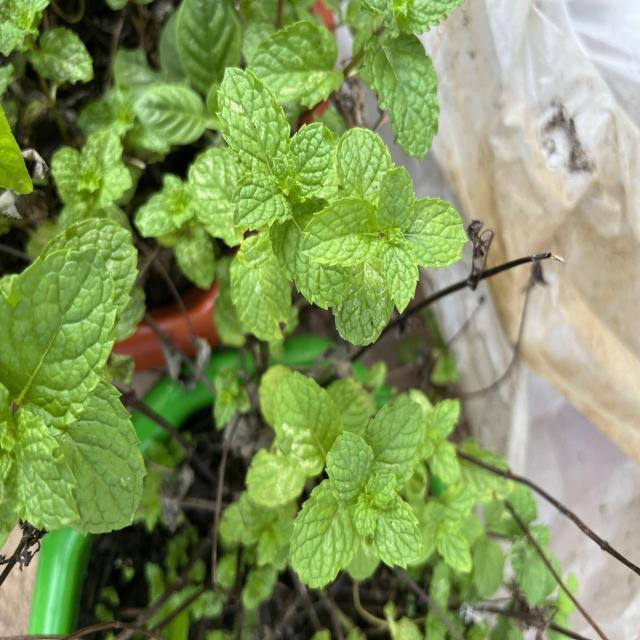Mentha spicata: (3, 244, 120, 420), (363, 30, 441, 164), (214, 64, 293, 176), (288, 480, 361, 592), (363, 397, 426, 490), (300, 196, 378, 269), (358, 487, 424, 570), (412, 194, 470, 272), (374, 164, 416, 236)
